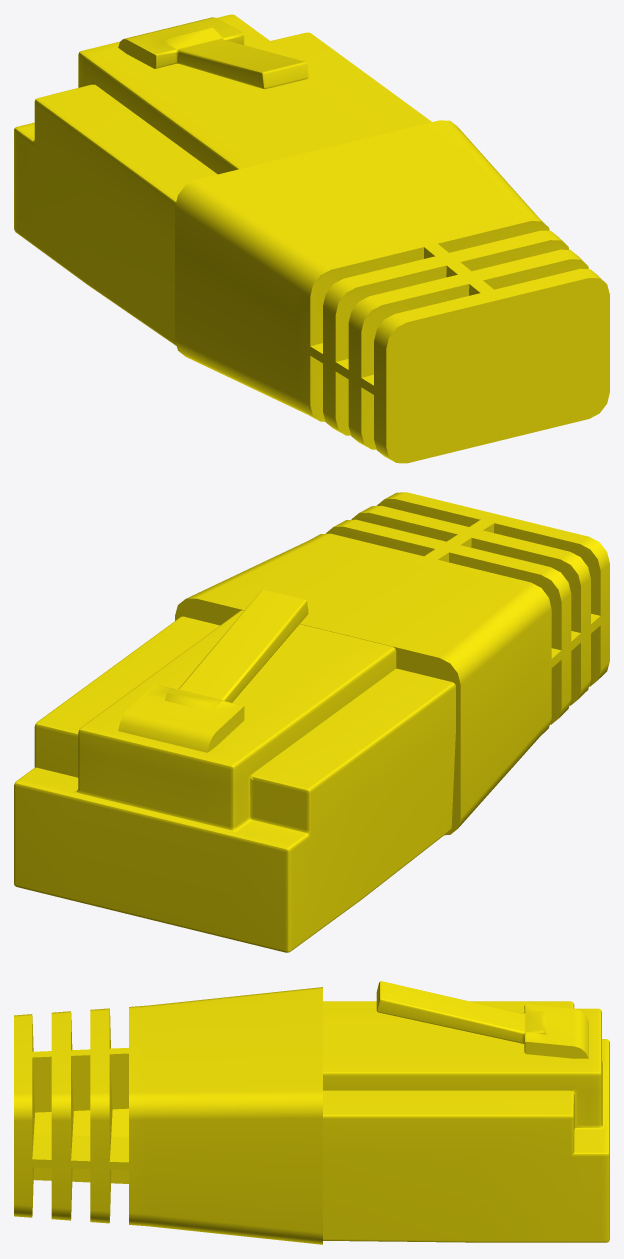
Rendered from TowerJack.fbx.
The picture shows the model from 3 angles, top to bottom: view 1: azimuth 30°, elevation 25°; view 2: azimuth 150°, elevation 25°; view 3: azimuth 270°, elevation 25°; orthographic projection. The views are drawn at different scales.
Parts seen in each view (by area): view 1: TowerJack; view 2: TowerJack; view 3: TowerJack.
Boxes of the visible parts, box(x1,y1,x2,y2) form: TowerJack: box(14, 14, 609, 463); TowerJack: box(14, 492, 609, 952); TowerJack: box(14, 981, 609, 1244).
Size of the model in its own units: 3.4 by 2.68 by 7.16.
